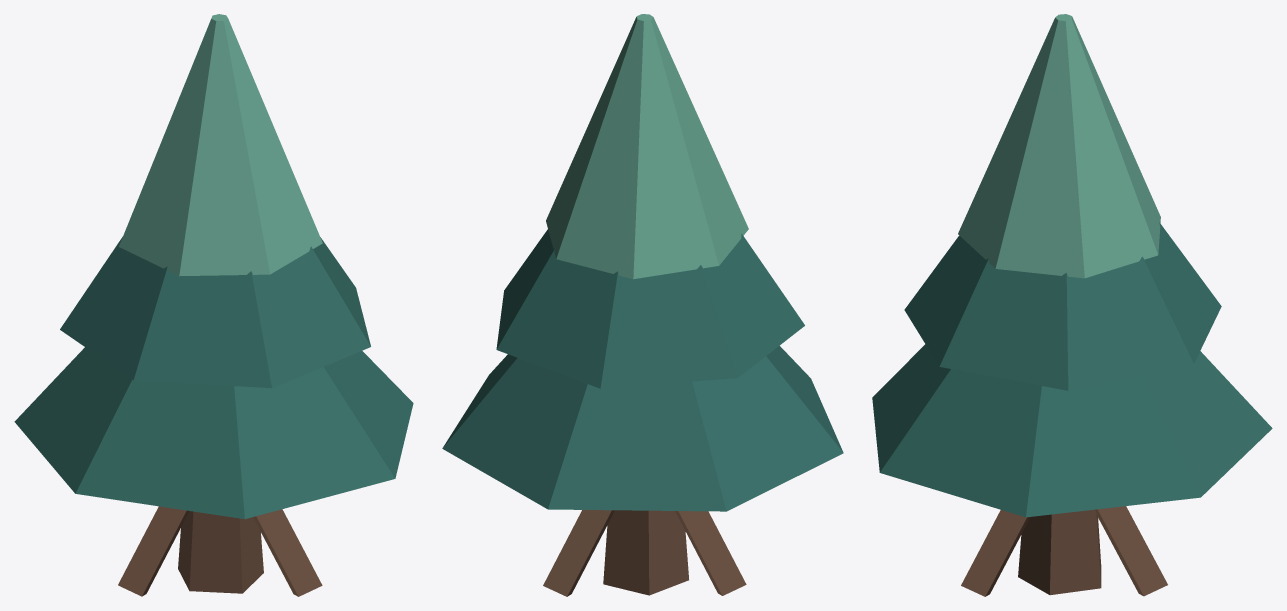
The model's file is Tree_A.fbx.
The picture shows the model from 3 angles, left to right: view 1: azimuth 30°, elevation 25°; view 2: azimuth 150°, elevation 25°; view 3: azimuth 270°, elevation 25°; orthographic projection.
Parts seen in each view (by area): view 1: Tree_A; view 2: Tree_A; view 3: Tree_A.
Part boxes in pixels (left/top/right/bottom): Tree_A: left=14, top=14, right=413, bottom=596; Tree_A: left=442, top=14, right=843, bottom=596; Tree_A: left=872, top=14, right=1272, bottom=596.
Bounding box in the file's own units: 1.2 × 1.85 × 1.2.
